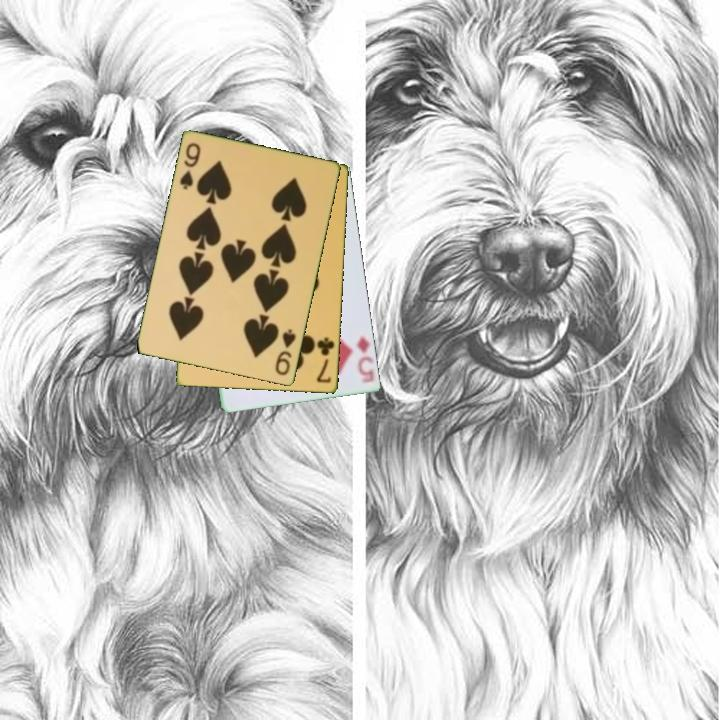5d: (353, 332, 377, 384)
7c: (313, 334, 338, 386)
9s: (176, 139, 204, 193), (272, 326, 299, 379)
